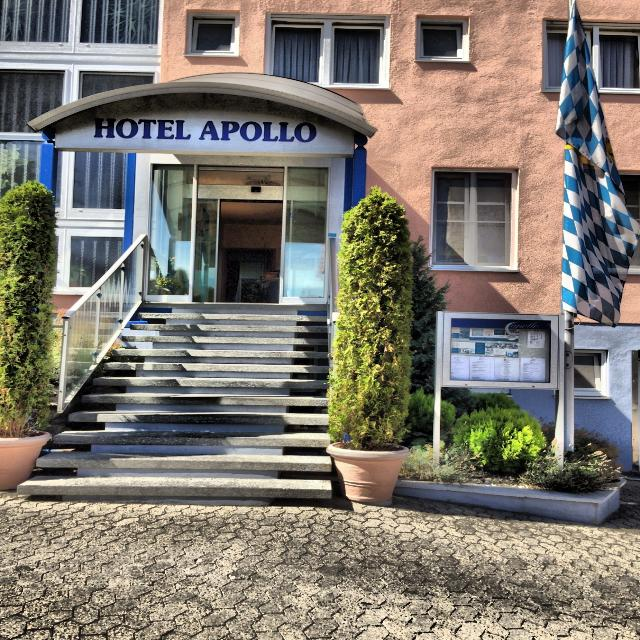escada: (13, 302, 336, 503)
